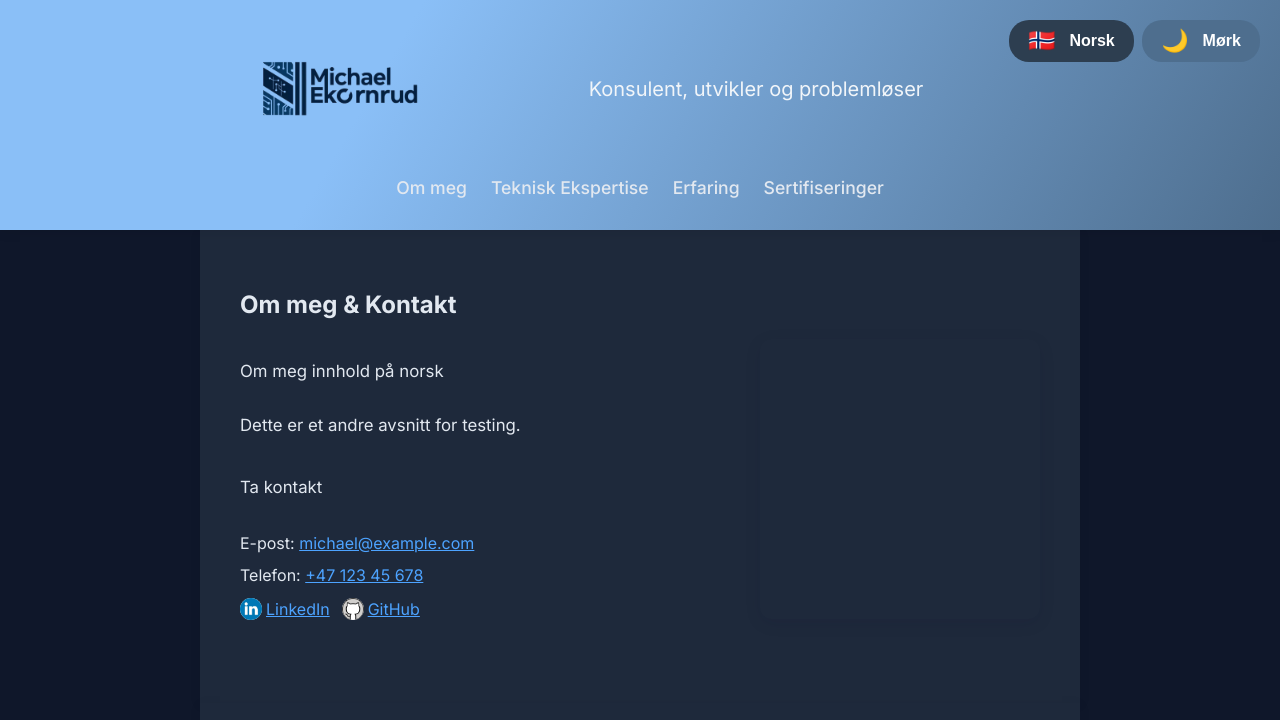
Language Toggle › displays correct flag based on language
Expected: the picture named "Norwegian flag" is shown, [1028,28,1055,54]
Click the button with aria-label "Toggle language" at (1071, 41), box [1009,20,1134,62]
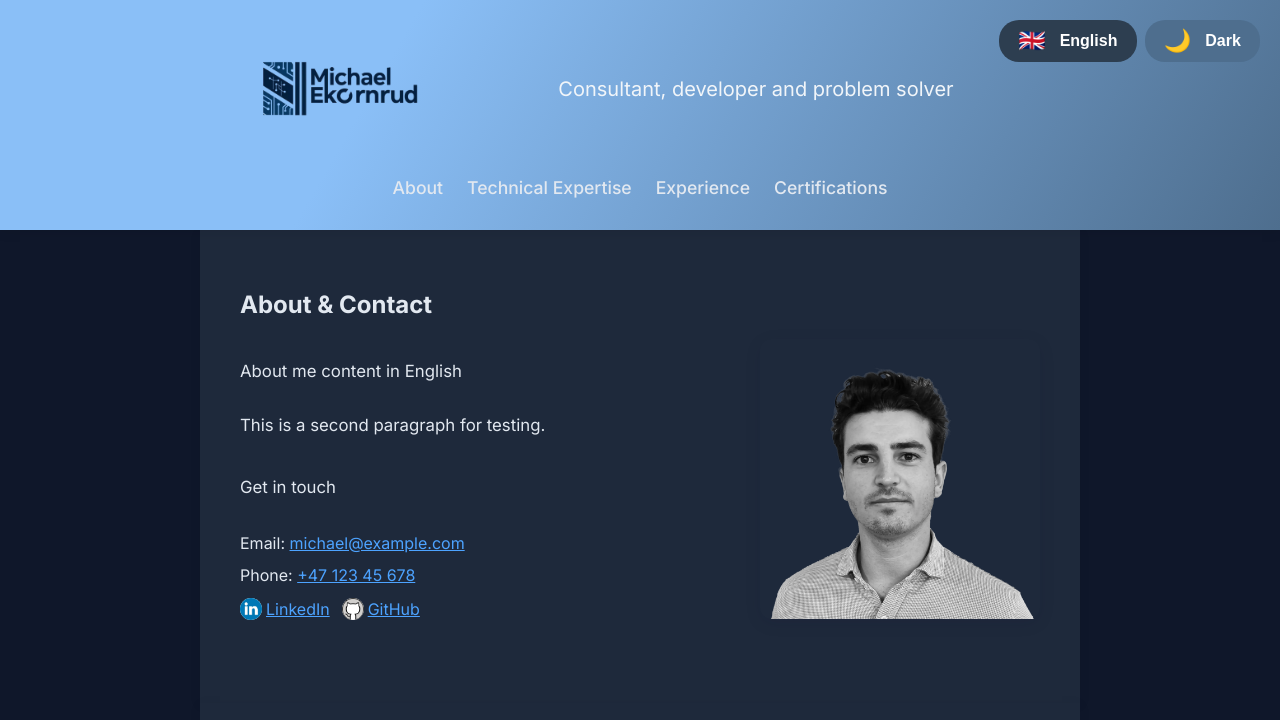
Result: the picture named "United Kingdom flag" is shown at [1018,28,1046,54]
